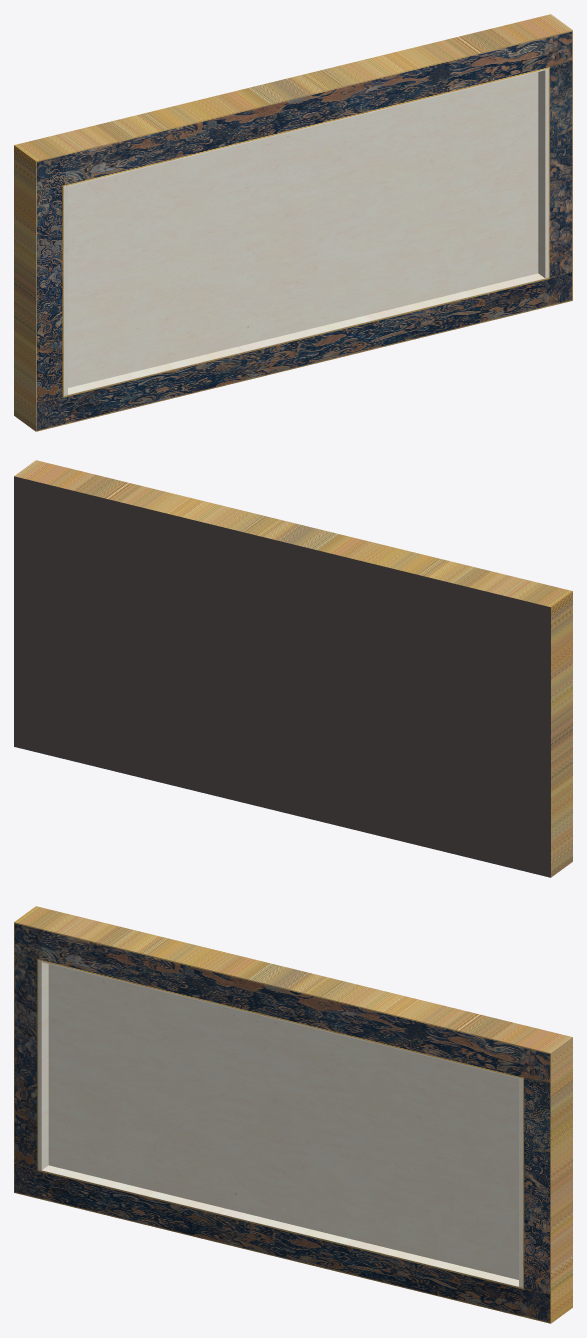
The model's file is panel_page.glb.
3 views of the same model, one above another, from view 1: azimuth 30°, elevation 25°; view 2: azimuth 150°, elevation 25°; view 3: azimuth 330°, elevation 25° (orthographic).
Parts seen in each view (by area): view 1: panel_page; view 2: panel_page; view 3: panel_page.
Boxes of the visible parts, x1,y1,x2,y2 form: panel_page: [14, 14, 572, 431]; panel_page: [14, 460, 572, 877]; panel_page: [14, 906, 572, 1323].
Size of the model in its own units: 0.54 by 0.26 by 0.042.
Materials: 1 (1 with a texture image).
